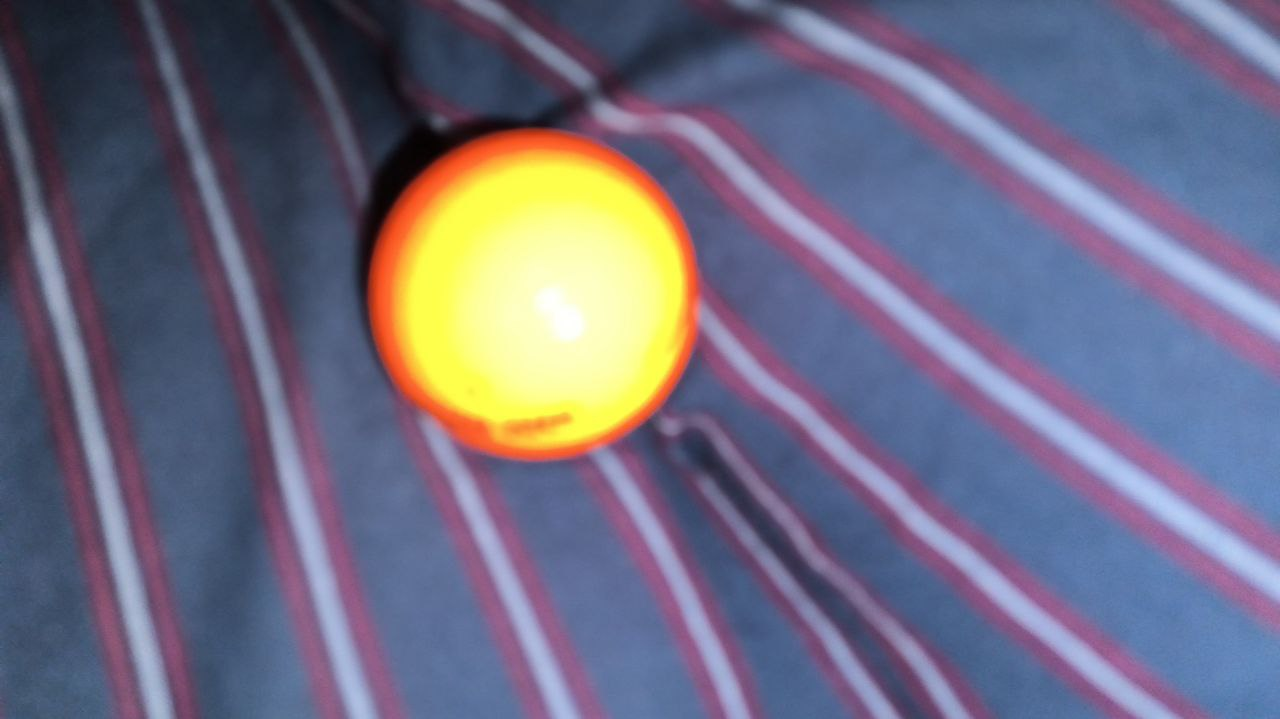orange_ball: (366, 130, 700, 463)
